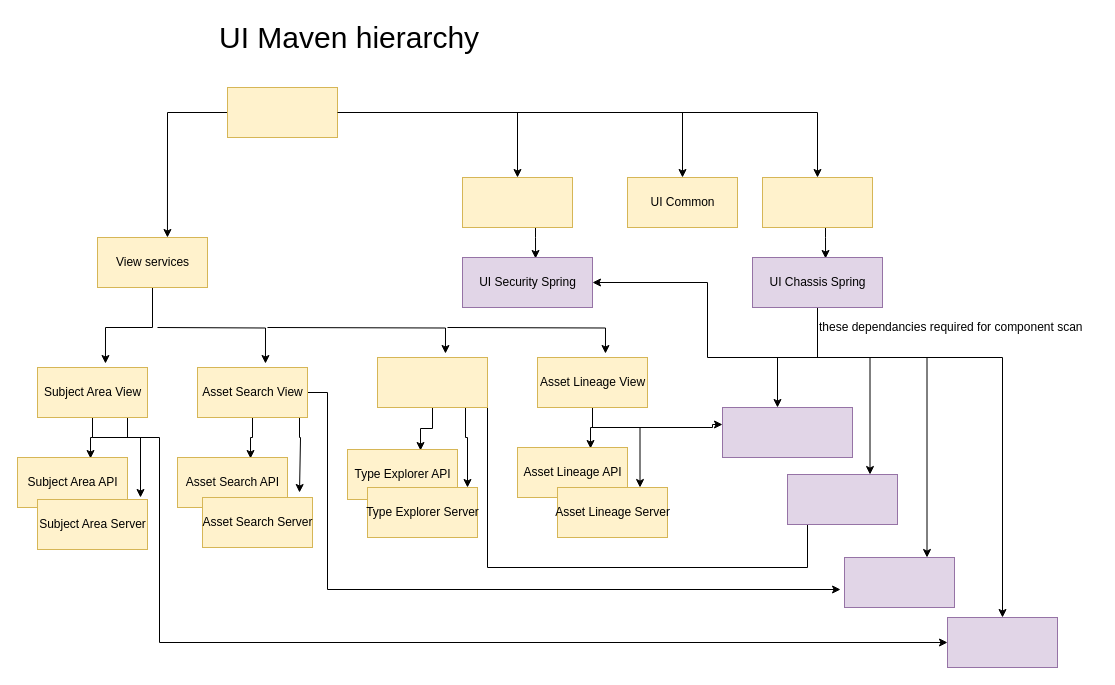
Image size: 1115x685. Some labels were removed from this diagram. The centre of each missing label's shape, as x and y in pixels:
"Asset Lineage Spring" goes at point (787, 432).
"Asset Search Spring" goes at point (899, 582).
"Subject Area Spring" goes at point (1002, 642).
"Type Explorer Spring" goes at point (842, 499).
"Type Explorer View" goes at point (432, 382).
"UI Chassis" goes at point (817, 202).
"UI Security" goes at point (517, 202).
"User Interface" goes at point (282, 112).
